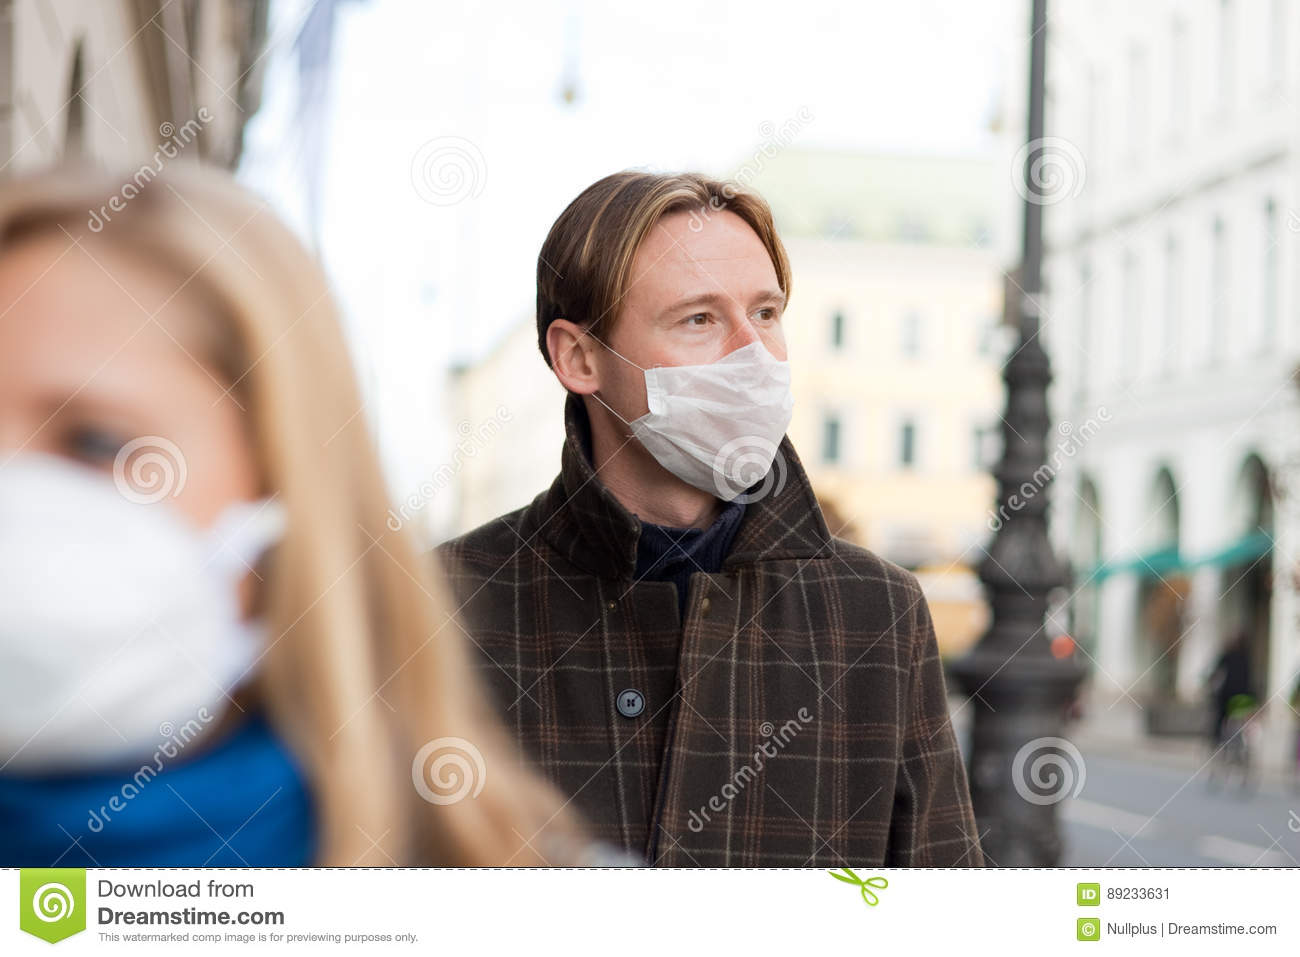mask: (632, 347, 795, 503)
